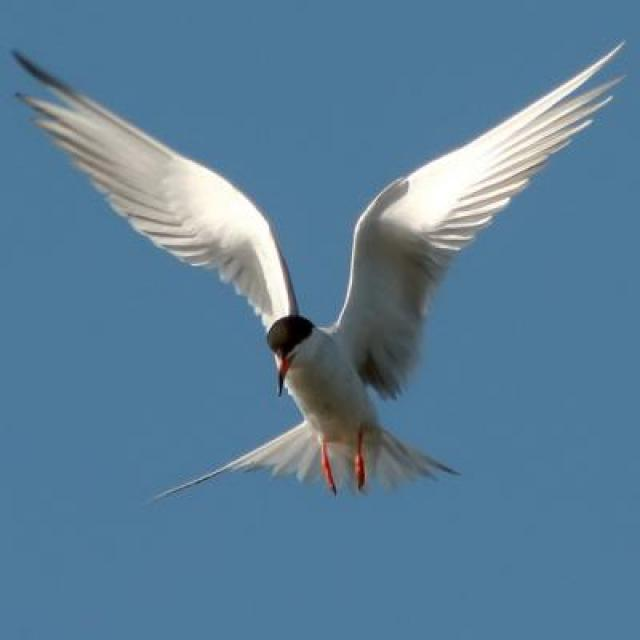birds: (14, 35, 624, 515)
